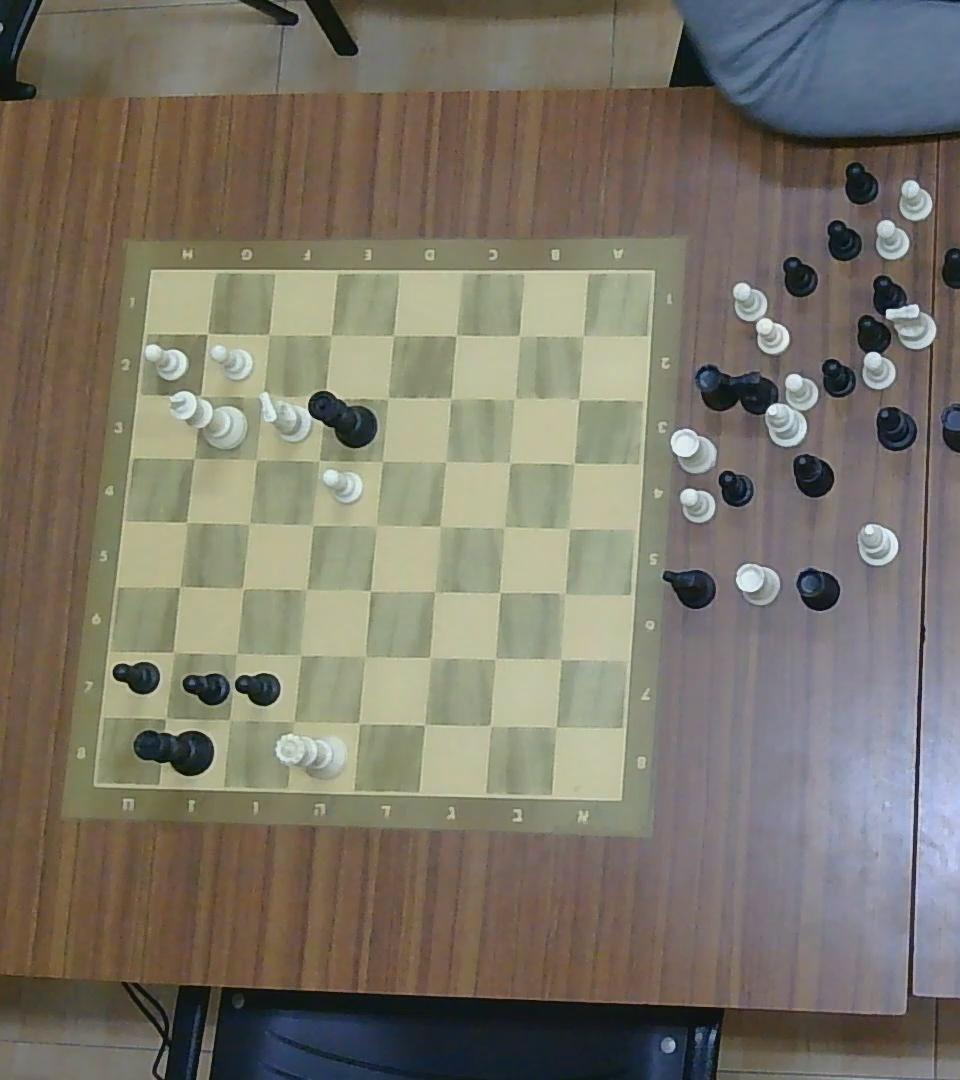xcorner: (477, 712, 503, 739), (543, 714, 569, 739), (412, 711, 437, 736), (246, 384, 272, 408), (281, 708, 305, 732), (482, 647, 506, 671), (347, 710, 371, 734), (353, 644, 376, 668), (288, 642, 311, 666), (154, 706, 178, 728), (419, 646, 441, 669), (319, 324, 341, 346), (218, 709, 240, 731), (439, 387, 461, 408), (371, 449, 392, 471), (423, 581, 444, 602), (549, 648, 571, 668), (445, 324, 465, 346), (188, 386, 210, 406), (183, 448, 203, 469), (366, 514, 386, 535), (225, 642, 245, 663), (170, 576, 190, 597), (296, 577, 315, 599), (429, 516, 449, 536), (376, 388, 396, 408), (559, 518, 579, 538), (259, 324, 279, 344), (383, 325, 403, 345), (435, 450, 454, 471), (247, 448, 266, 469), (499, 450, 518, 471), (555, 583, 574, 604), (315, 387, 334, 408), (302, 514, 321, 534), (361, 580, 380, 600), (489, 582, 508, 602), (309, 450, 328, 470), (177, 511, 196, 531), (240, 513, 259, 532), (198, 324, 217, 343), (164, 643, 183, 662), (234, 579, 253, 598), (495, 516, 513, 536), (505, 388, 523, 407), (511, 326, 529, 345), (573, 326, 591, 345), (565, 453, 583, 471), (572, 390, 588, 406)
